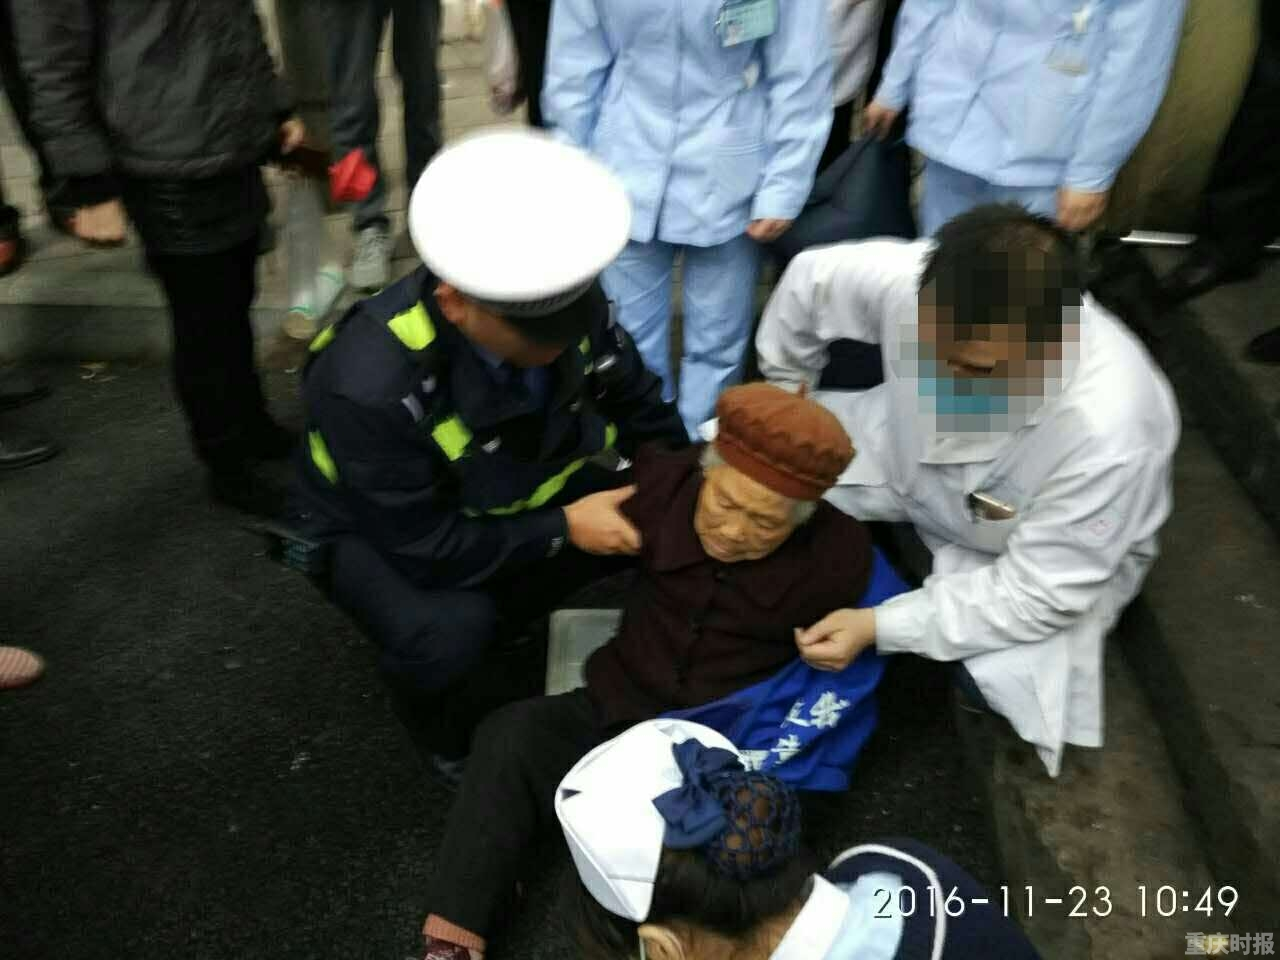fall: (396, 366, 890, 960)
